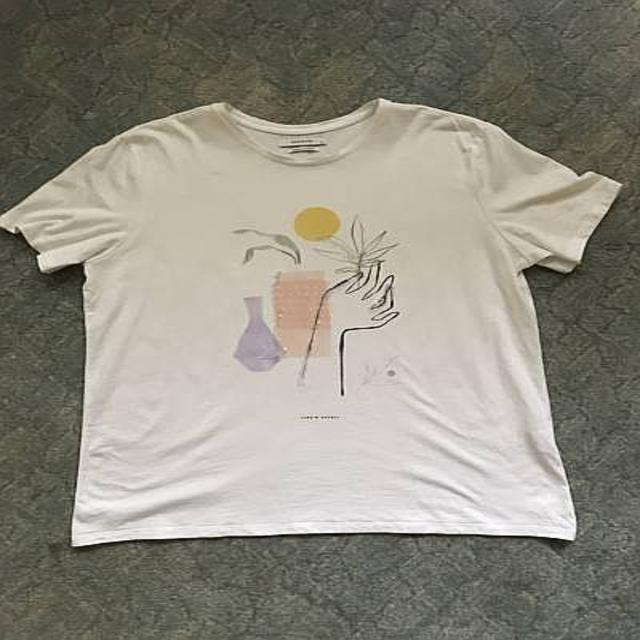T_SHIRT: (0, 92, 639, 550)
